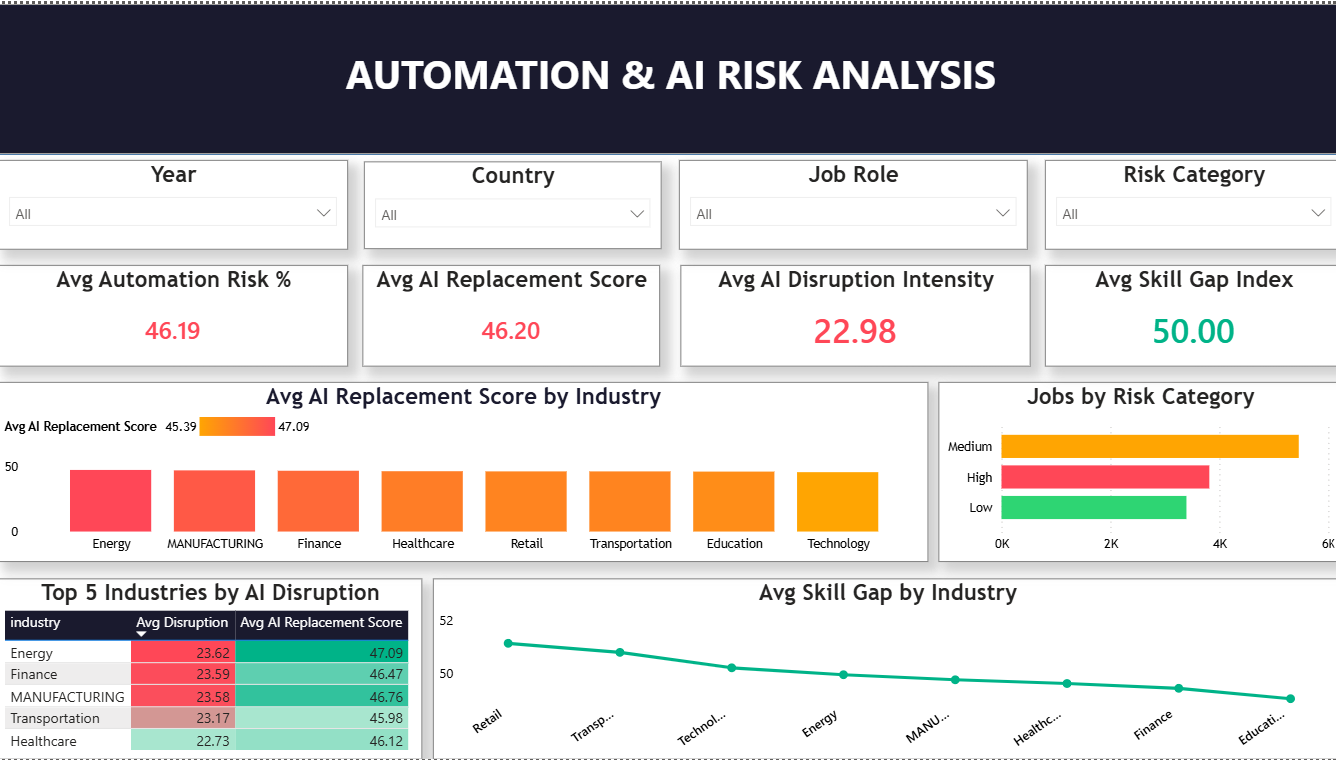

What the dashboard file says about the page in this screenshot:
{"tool":"powerbi","page":{"name":"AI Risk Analysis","canvas":[1280,720],"ordinal":1},"visuals":[{"type":"shape","box":[0,0,1280,143.3],"z":0,"group":"g1"},{"type":"cardVisual","title":"Avg Automation Risk %","fields":{"Data":["Measures Table.Avg Automation Risk %"]},"box":[0,248.3,333.3,96.7],"z":0},{"type":"textbox","box":[300,0,681.7,138.6],"z":1000,"group":"g1"},{"type":"tableEx","title":"Top 5 Industries by AI Disruption","fields":{"Values":["ai_jobs_dirty.industry","Measures Table.Avg Disruption","Measures Table.Avg AI Replacement Score"]},"box":[0,547.1,403.7,173.6],"z":1000},{"type":"cardVisual","title":"Avg AI Replacement Score","fields":{"Data":["Measures Table.Avg AI Replacement Score"]},"box":[346.7,248.3,283.3,96.7],"z":2000},{"type":"lineChart","title":" Avg Skill Gap by Industry","fields":{"Category":["ai_jobs_dirty.industry"],"Y":["Measures Table.Avg Skill Gap Index"]},"box":[414.2,547.1,865.3,173.6],"z":3000},{"type":"cardVisual","title":"Avg AI Disruption Intensity","fields":{"Data":["Measures Table.Avg Disruption"]},"box":[650,248.3,333.3,96.7],"z":4000},{"type":"clusteredColumnChart","title":" Avg AI Replacement Score by Industry","fields":{"Category":["ai_jobs_dirty.industry"],"Y":["Measures Table.Avg AI Replacement Score"]},"box":[0,360,885.7,171.4],"z":5000},{"type":"barChart","title":"Jobs by Risk Category","fields":{"Category":["ai_jobs_dirty.automation_risk_category"],"Series":["ai_jobs_dirty.automation_risk_category"],"Y":["Measures Table.Total Jobs"]},"box":[895.7,360,384.3,171.4],"z":6000},{"type":"cardVisual","title":"Avg Skill Gap Index","fields":{"Data":["Measures Table.Avg Skill Gap Index"]},"box":[996.7,248.3,283.3,96.7],"z":7000},{"type":"group","id":"g1","title":"Group 2","box":[0,0,1280,143.3],"z":8000},{"type":"slicer","title":"Year","fields":{"Values":["ai_jobs_dirty.year"]},"box":[0,148.3,333.3,85],"z":9000},{"type":"slicer","title":"Country","fields":{"Values":["ai_jobs_dirty.country"]},"box":[348.3,150,283.3,83.3],"z":10000},{"type":"slicer","title":"Job Role","fields":{"Values":["ai_jobs_dirty.job_role"]},"box":[648.3,148.3,331.7,85],"z":11000},{"type":"slicer","title":"Risk Category","fields":{"Values":["ai_jobs_dirty.automation_risk_category"]},"box":[996.7,148.3,283.3,85],"z":12000}]}

Visuals, with their boxes in screenshot pixels (x1, y1, x2, y2), scaled from the page's 1280x720 canvas onto the 1336x760 screenshot:
shape: region(0, 0, 1335, 151)
"Avg Automation Risk %" cardVisual: region(0, 262, 348, 364)
textbox: region(313, 0, 1025, 146)
"Top 5 Industries by AI Disruption" tableEx: region(0, 577, 421, 759)
"Avg AI Replacement Score" cardVisual: region(362, 262, 658, 364)
" Avg Skill Gap by Industry" lineChart: region(432, 577, 1335, 759)
"Avg AI Disruption Intensity" cardVisual: region(678, 262, 1026, 364)
" Avg AI Replacement Score by Industry" clusteredColumnChart: region(0, 380, 924, 561)
"Jobs by Risk Category" barChart: region(935, 380, 1335, 561)
"Avg Skill Gap Index" cardVisual: region(1040, 262, 1335, 364)
"Group 2" group: region(0, 0, 1335, 151)
"Year" slicer: region(0, 157, 348, 246)
"Country" slicer: region(364, 158, 659, 246)
"Job Role" slicer: region(677, 157, 1023, 246)
"Risk Category" slicer: region(1040, 157, 1335, 246)
